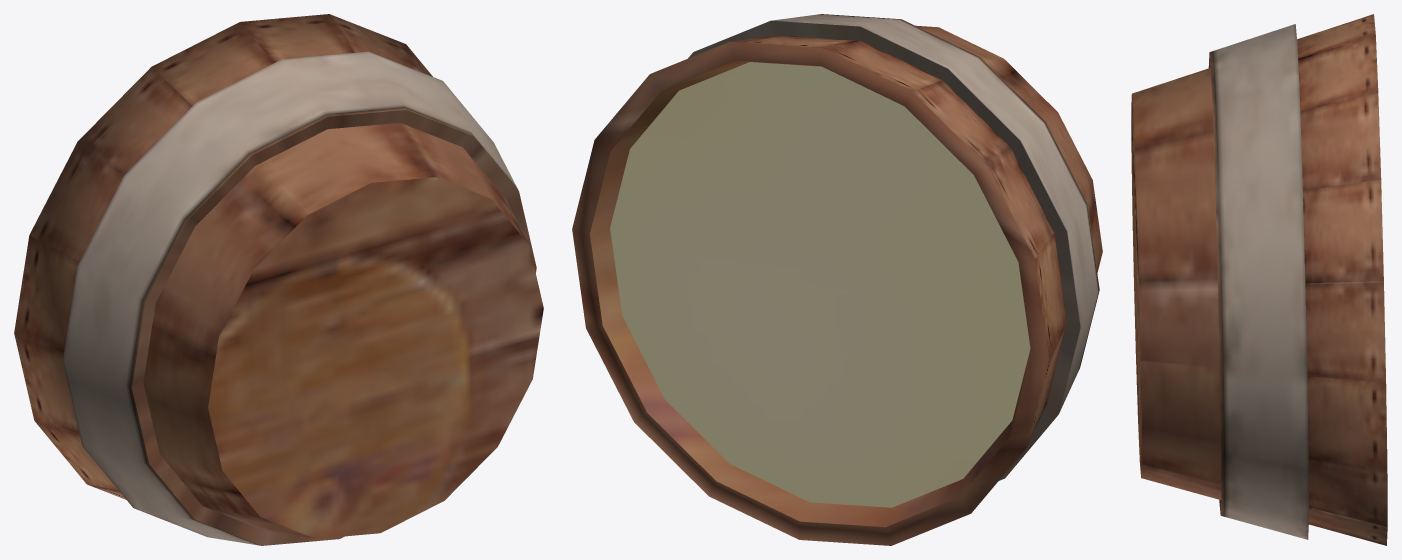
The model's file is H_CheeseMold_Liquid.fbx.
The picture shows the model from 3 angles, left to right: view 1: azimuth 30°, elevation 25°; view 2: azimuth 150°, elevation 25°; view 3: azimuth 270°, elevation 25°; orthographic projection. The views are drawn at different scales.
Parts seen in each view (by area): view 1: Wooden_CheeseMold.001; view 2: Wooden_CheeseMold.001; view 3: Wooden_CheeseMold.001.
Boxes of the visible parts, x1=… form: Wooden_CheeseMold.001: x1=14, y1=14, x2=543, y2=545; Wooden_CheeseMold.001: x1=572, y1=14, x2=1102, y2=545; Wooden_CheeseMold.001: x1=1131, y1=14, x2=1387, y2=545.
Bounding box in the file's own units: 55.68 × 55.68 × 26.86.
